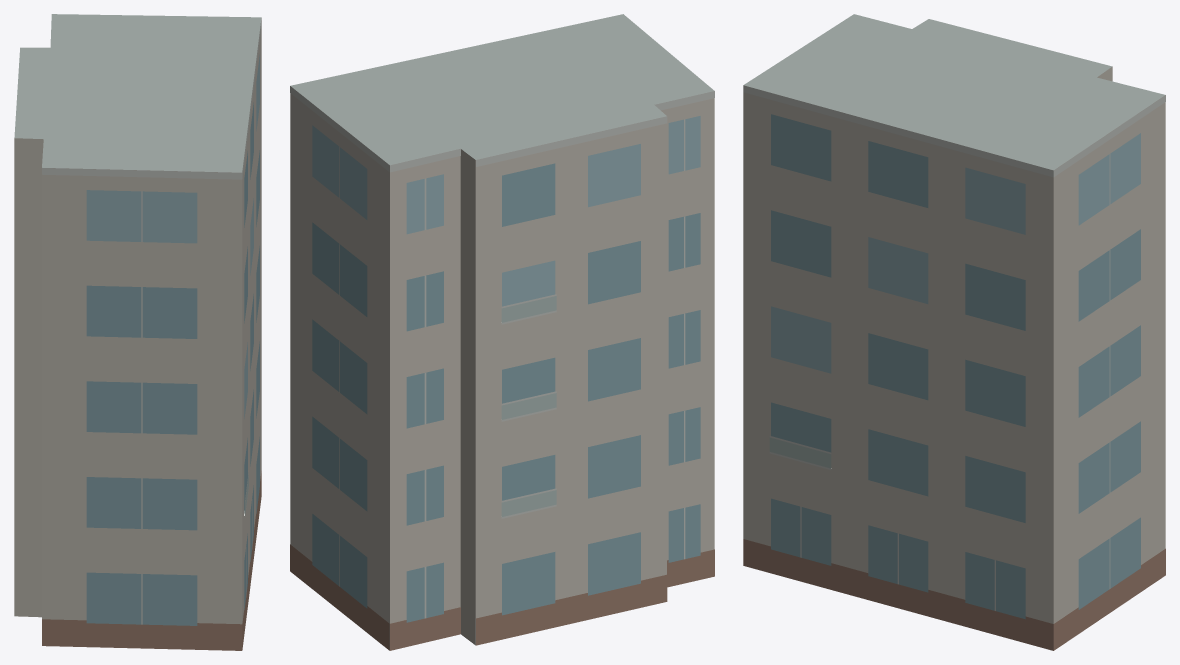
The model's file is survey-upis-32785344.glb.
3 views of the same model, side by side, from view 1: azimuth 30°, elevation 25°; view 2: azimuth 150°, elevation 25°; view 3: azimuth 270°, elevation 25° (orthographic).
Parts seen in each view (by area): view 1: survey-upis-32785344.tmp; view 2: survey-upis-32785344.tmp; view 3: survey-upis-32785344.tmp.
Boxes of the visible parts, <box> form: survey-upis-32785344.tmp: <box>14,14,261,650</box>; survey-upis-32785344.tmp: <box>290,14,714,650</box>; survey-upis-32785344.tmp: <box>743,14,1165,650</box>.
Size of the model in its own units: 11.6 by 16.6 by 13.24.
